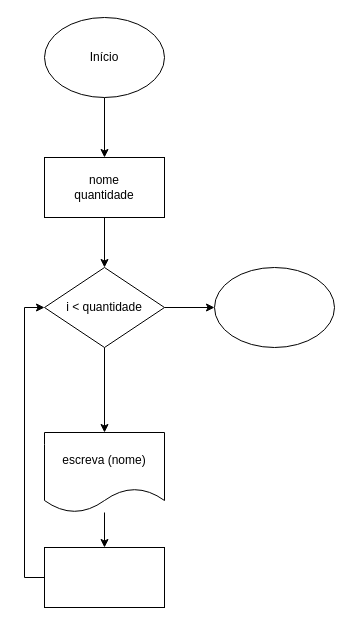
Some shapes in this 352 by 625 pixel diagram are drawn without their labels. The centre of each missing label's shape, as x and y in pixels:
"Fim" goes at (x=274, y=307).
"i ++" goes at (x=104, y=577).
